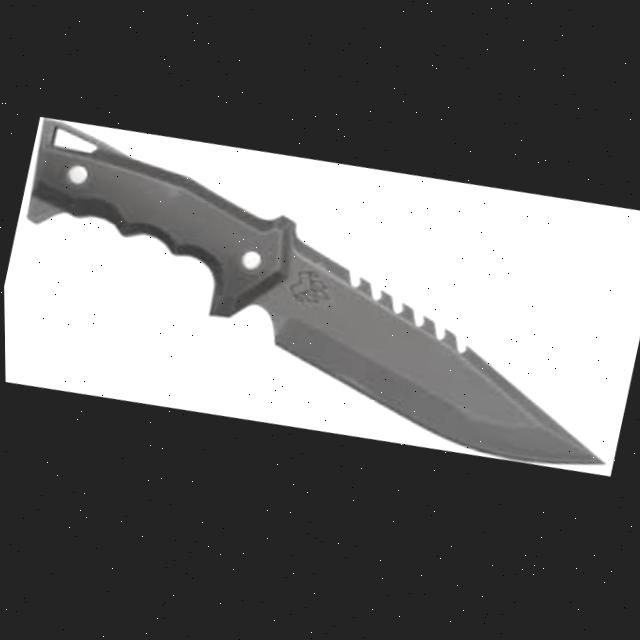Knife: (1, 83, 640, 515)
